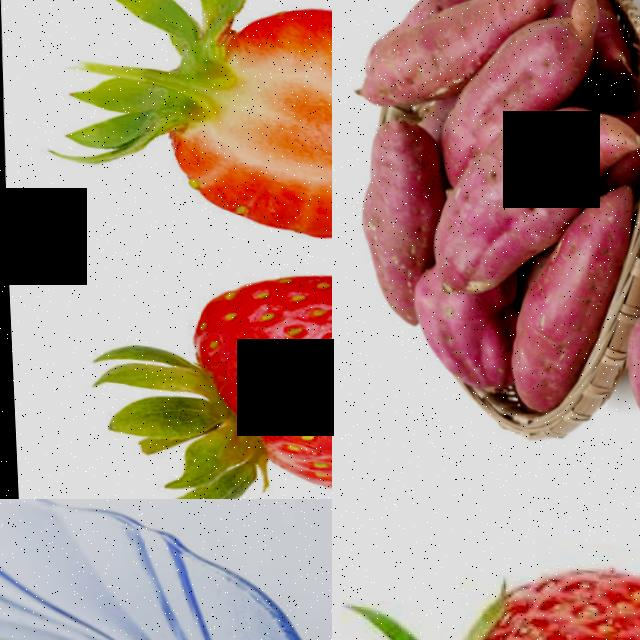strawberry: (159, 0, 332, 259), (170, 242, 332, 499), (425, 544, 640, 640)
sweet potato: (422, 89, 640, 307), (497, 168, 635, 421), (344, 0, 580, 117), (346, 109, 445, 326), (402, 268, 511, 390)
